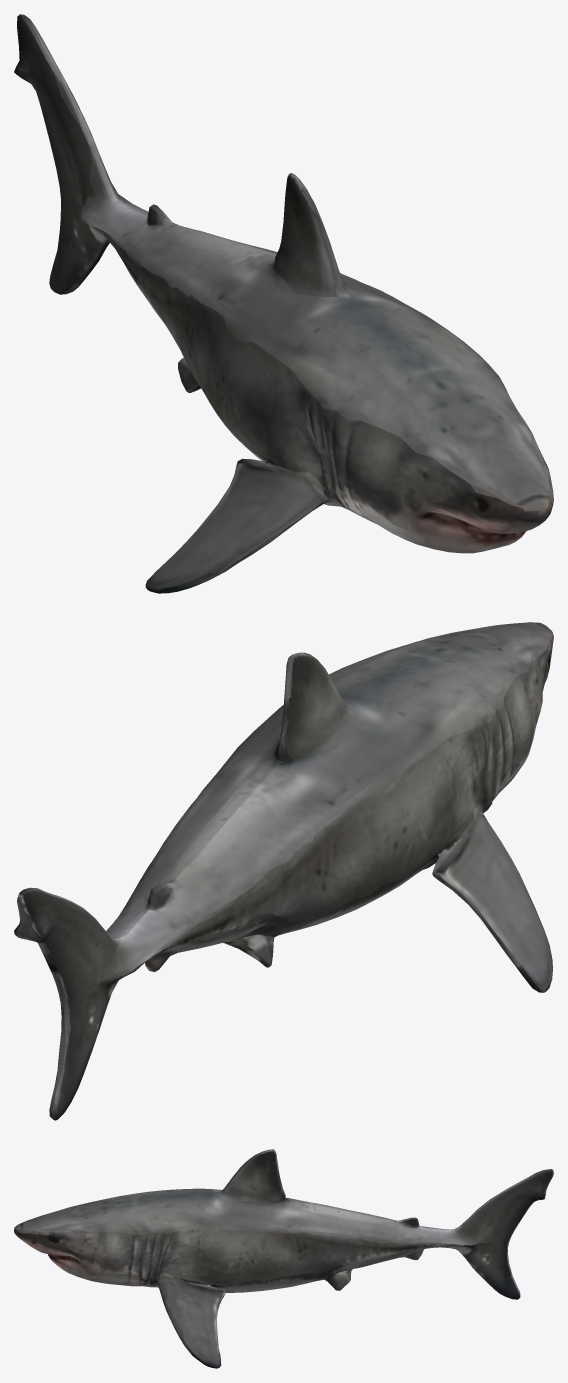
File: shark.glb
The picture shows the model from 3 angles, top to bottom: view 1: azimuth 30°, elevation 25°; view 2: azimuth 150°, elevation 25°; view 3: azimuth 270°, elevation 25°; orthographic projection. The views are drawn at different scales.
Visible parts, largest first — view 1: geometry_0; view 2: geometry_0; view 3: geometry_0.
Part boxes in pixels (box(x1,y1,x2,y2)): geometry_0: box(14, 14, 553, 593); geometry_0: box(14, 622, 553, 1120); geometry_0: box(14, 1149, 553, 1368).
Size of the model in its own units: 4.5 by 3.55 by 10.23.
Materials: 1 (1 with a texture image).
